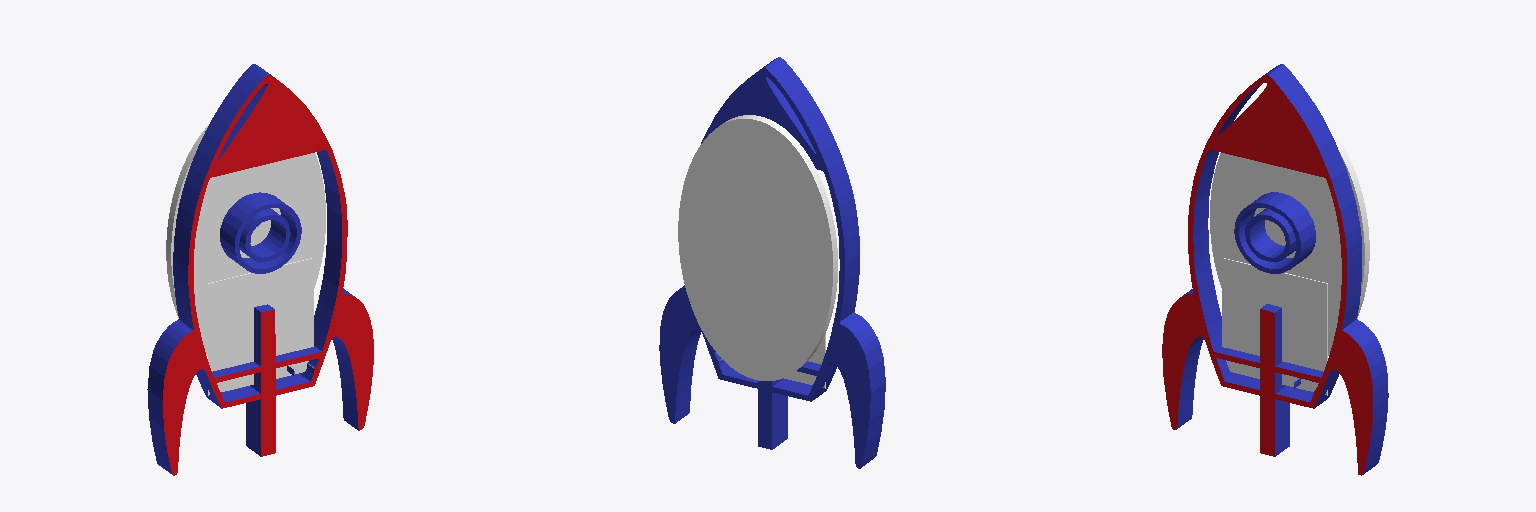
File: rocketim4.obj
3 views of the same model, side by side, from view 1: azimuth 30°, elevation 25°; view 2: azimuth 150°, elevation 25°; view 3: azimuth 330°, elevation 25° (orthographic).
Parts seen in each view (by area): view 1: Object.1, Object.5, Object.6, Object.7, Object.2, Object.3; view 2: Object.5, Object.1; view 3: Object.1, Object.5, Object.7, Object.6, Object.2, Object.3.
Part boxes in pixels (bbox=[...]): Object.1: bbox=[147, 64, 373, 475]; Object.5: bbox=[166, 125, 325, 355]; Object.6: bbox=[208, 273, 260, 395]; Object.7: bbox=[261, 258, 313, 378]; Object.2: bbox=[220, 192, 301, 273]; Object.3: bbox=[239, 209, 290, 262]; Object.5: bbox=[678, 115, 837, 380]; Object.1: bbox=[659, 57, 885, 468]; Object.1: bbox=[1162, 64, 1388, 475]; Object.5: bbox=[1210, 125, 1369, 355]; Object.7: bbox=[1275, 273, 1327, 395]; Object.6: bbox=[1222, 258, 1274, 378]; Object.2: bbox=[1234, 192, 1315, 273]; Object.3: bbox=[1245, 209, 1295, 262].
Bounding box in the file's own units: 22.6 × 38.83 × 4.54.